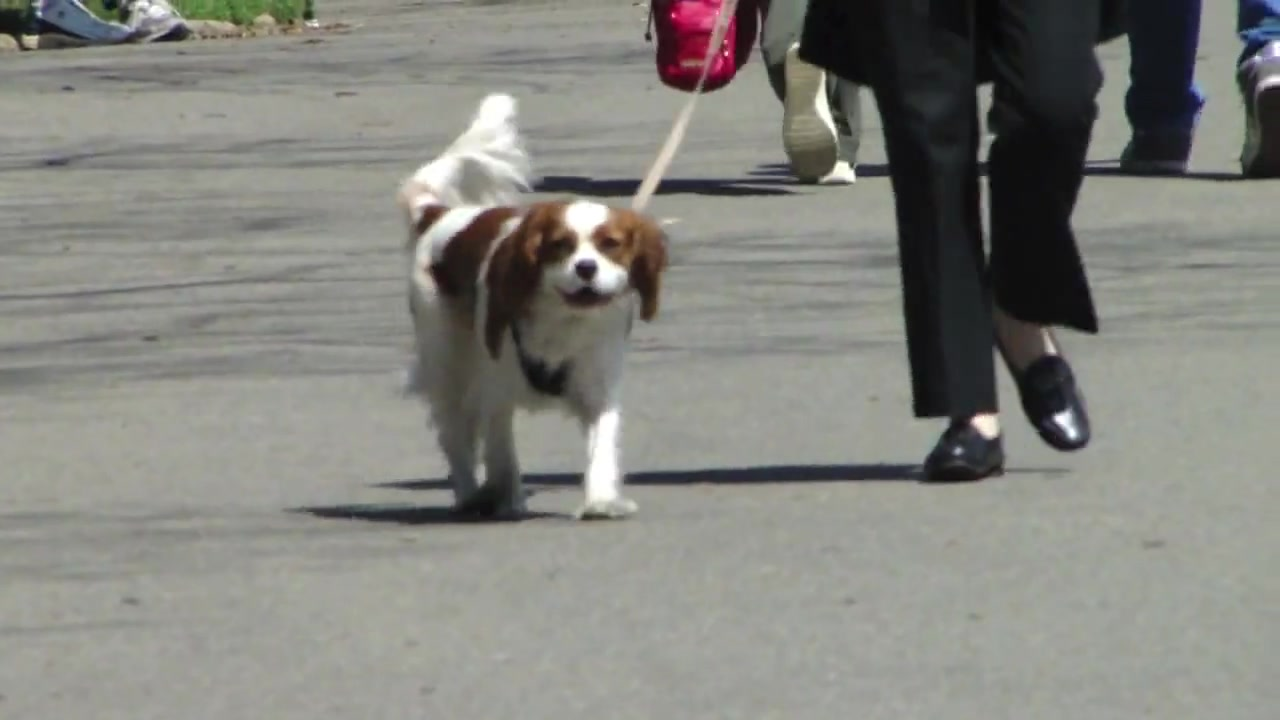dog: (396, 87, 669, 526)
